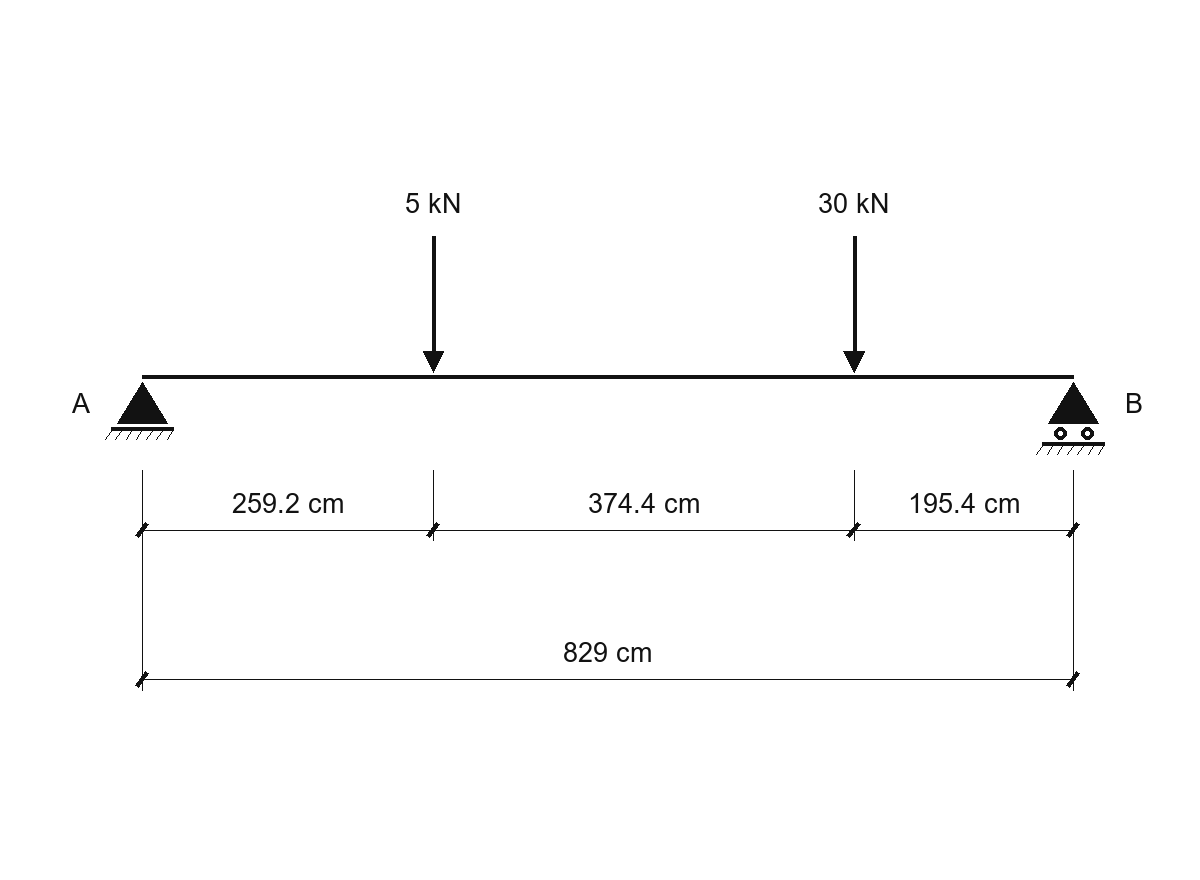pin_support: (105, 382, 174, 440)
point_load: (843, 236, 865, 373), (423, 236, 444, 373)
roller_support: (1036, 382, 1105, 455)
